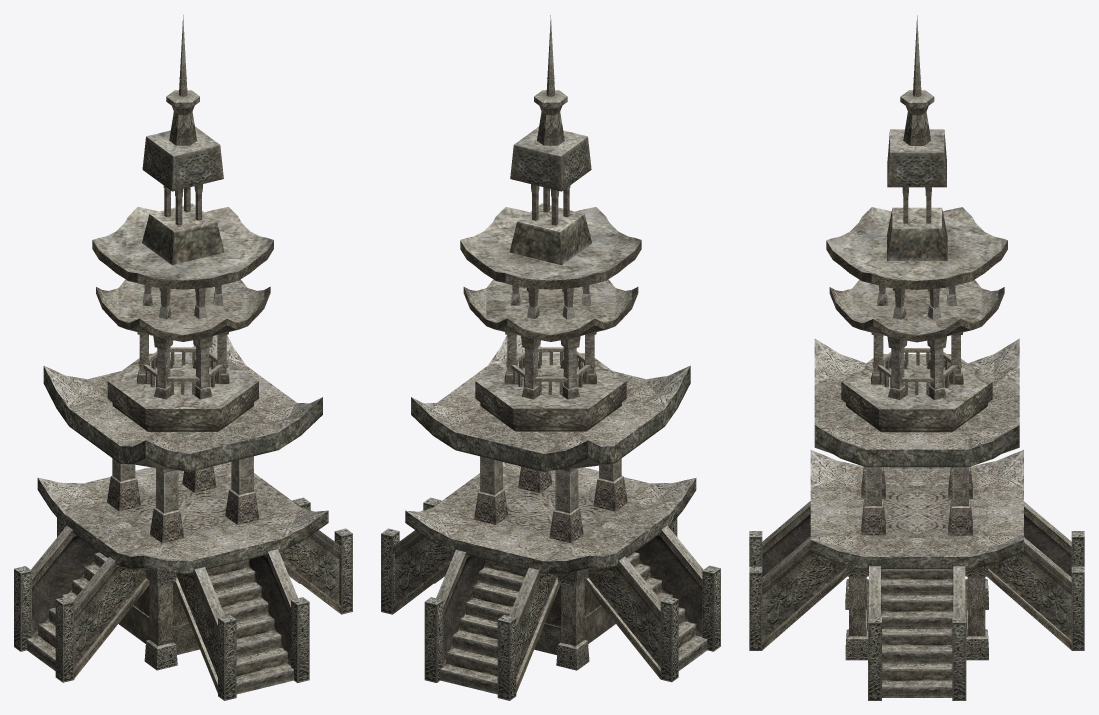
File: c1-037-tower.fbx
3 renders of one model, left to right at view 1: azimuth 30°, elevation 25°; view 2: azimuth 150°, elevation 25°; view 3: azimuth 270°, elevation 25°, orthographic.
Parts seen in each view (by area): view 1: Object01; view 2: Object01; view 3: Object01.
Part boxes in pixels (x1,y1,x2,y2): Object01: (14,15,352,700); Object01: (381,15,720,700); Object01: (749,15,1084,700).
Bounding box in the file's own units: 7.64 × 15.49 × 7.64.
